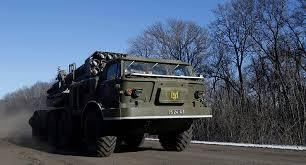rszo: (31, 48, 214, 156)
